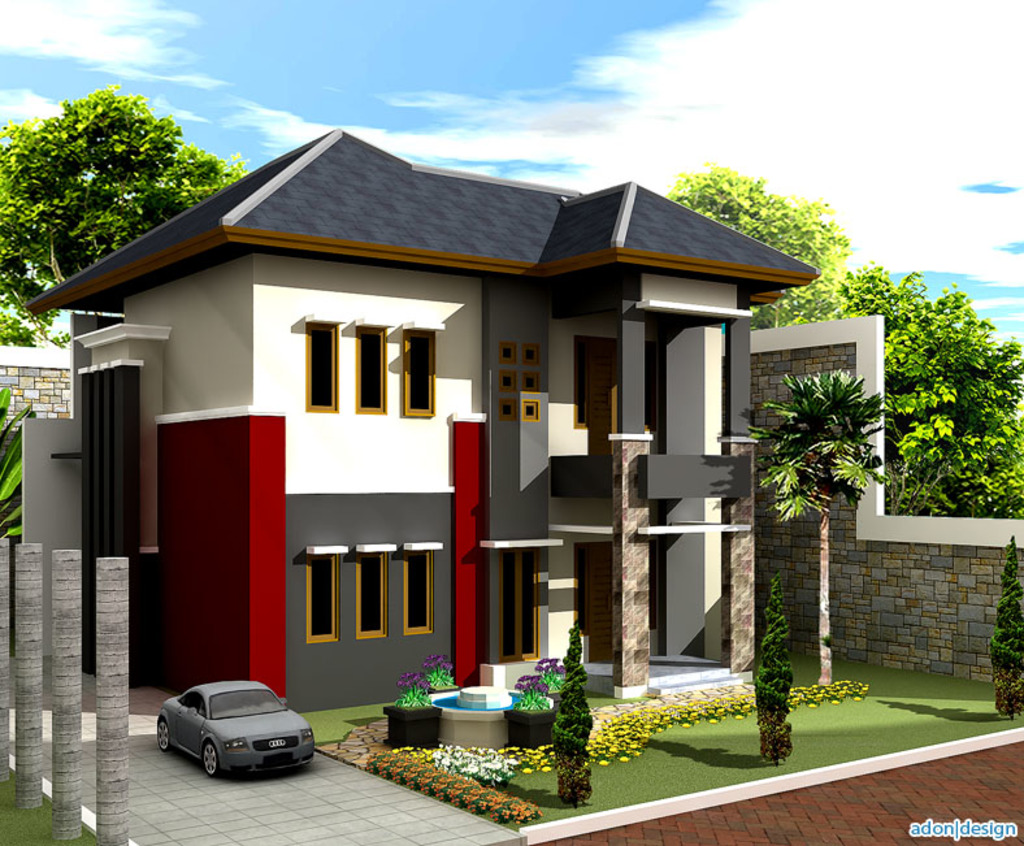Car: (155, 683, 315, 779)
